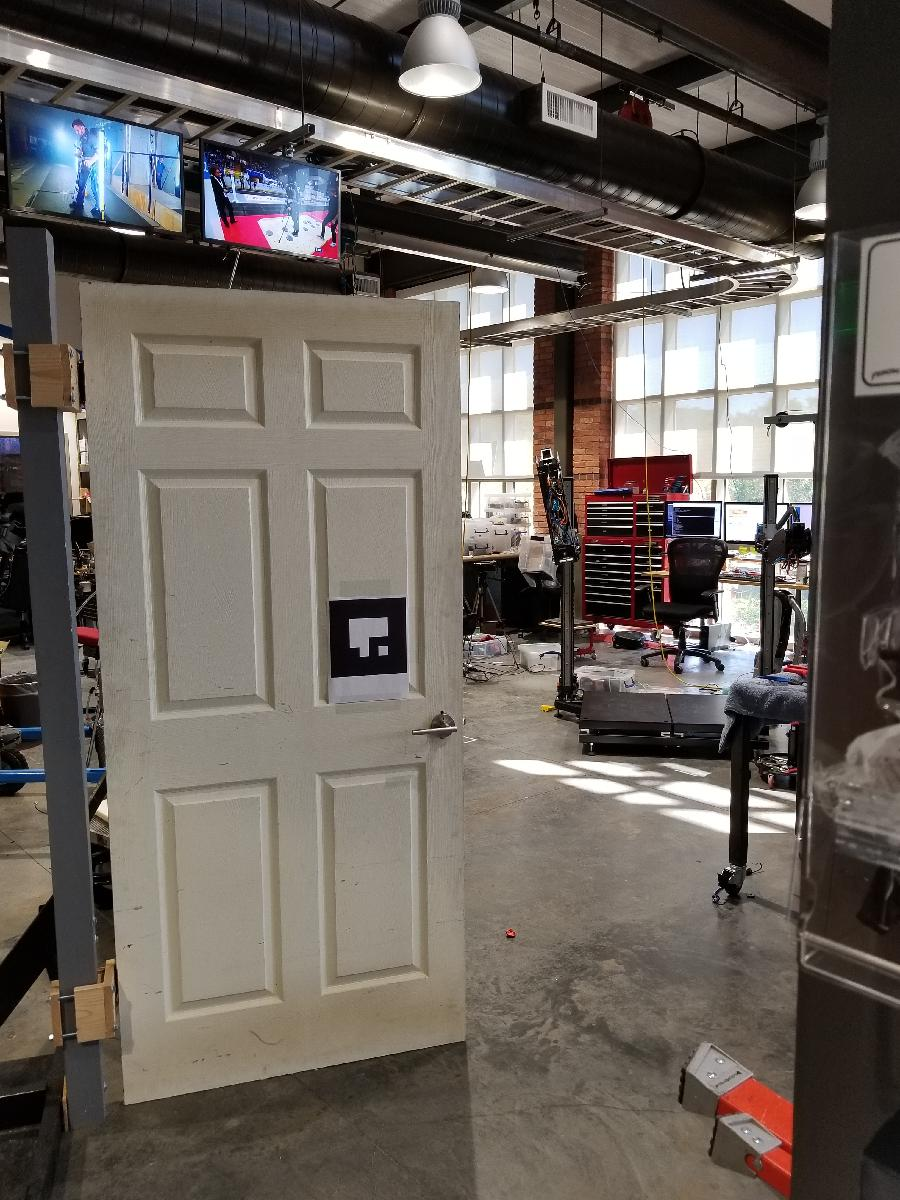door: (74, 277, 472, 1108)
doorHandle: (406, 711, 467, 751)
